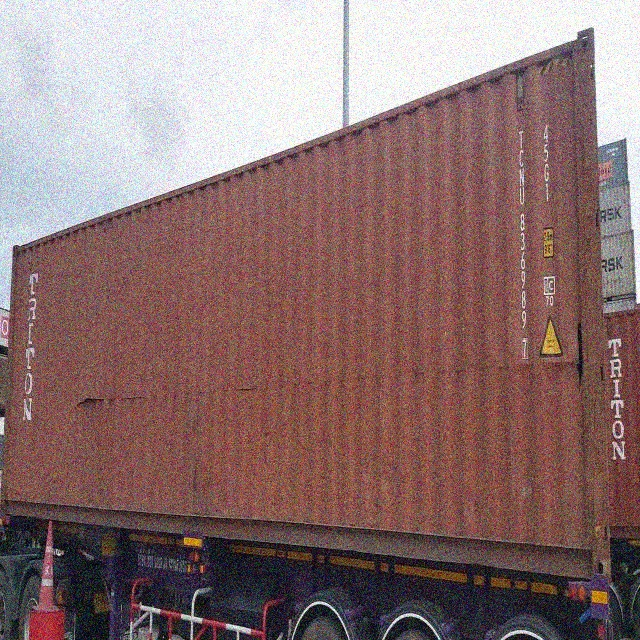Hole: (577, 320, 585, 397), (76, 396, 107, 408)
